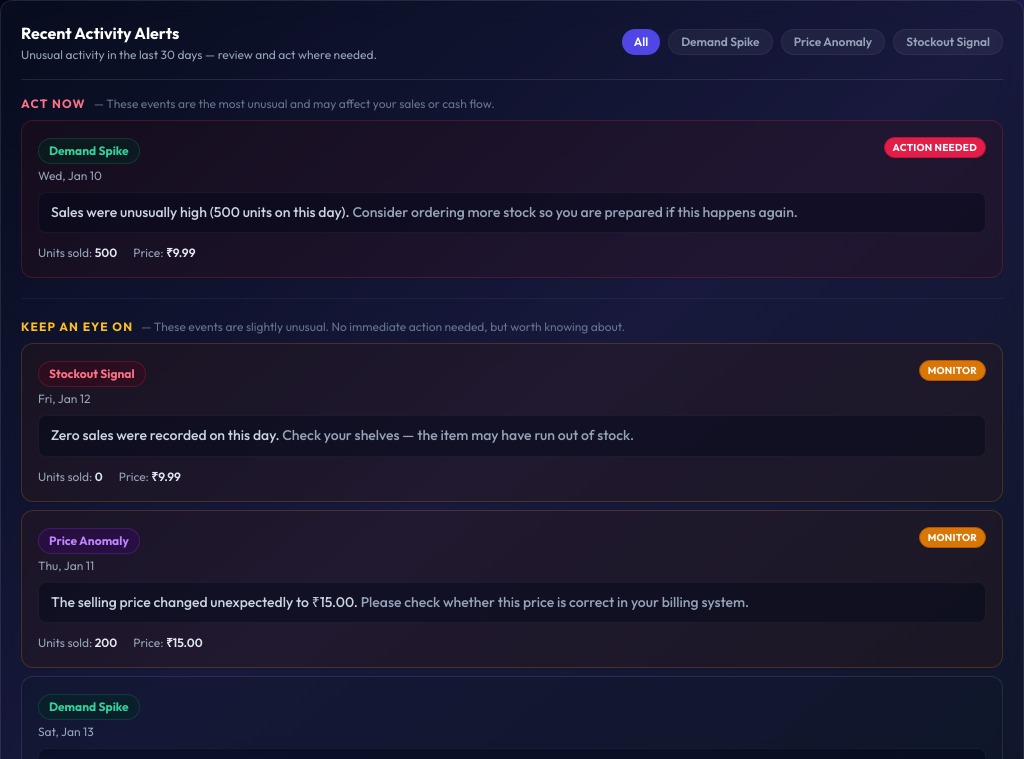
Test: AnomalyTable › filter chips › filters to only price_anomaly rows when "Price Anomaly" chip is clicked
The width and height of the screenshot is (1024, 759).
Click the button "Price Anomaly": (833, 42) [781, 29, 885, 55]
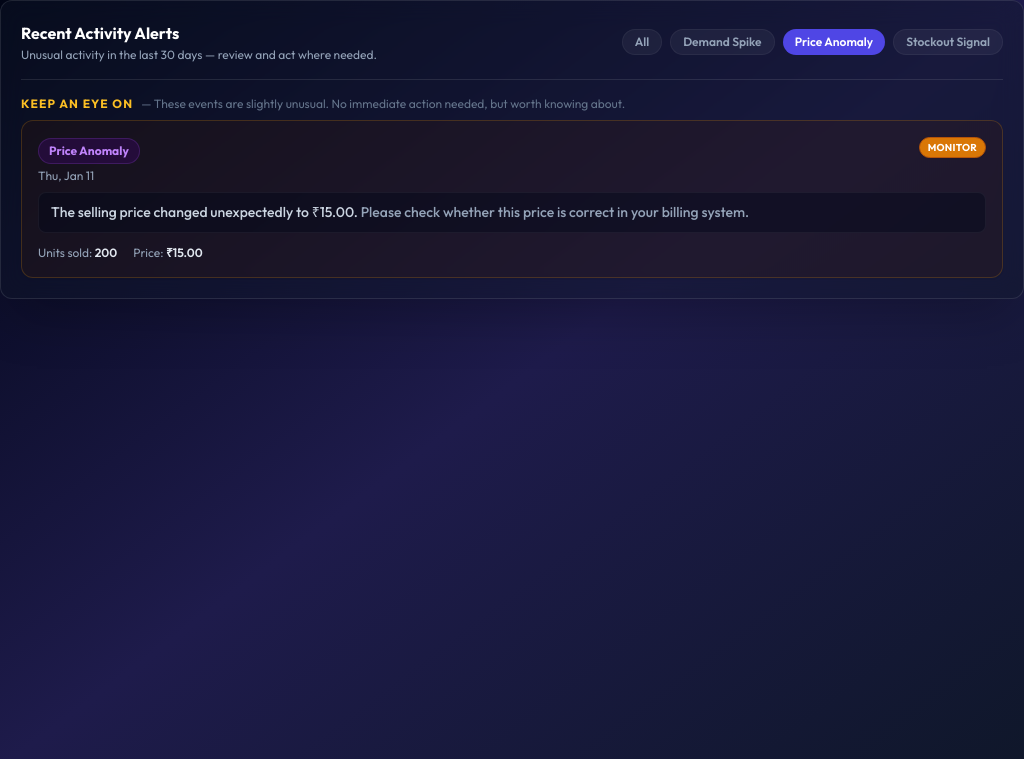
Expected: the element with test id "anomaly-card-2024-01-11" is shown, [21, 120, 1003, 278]
Expected: the element with test id "anomaly-card-2024-01-10" is gone
Expected: the element with test id "anomaly-card-2024-01-12" is gone
